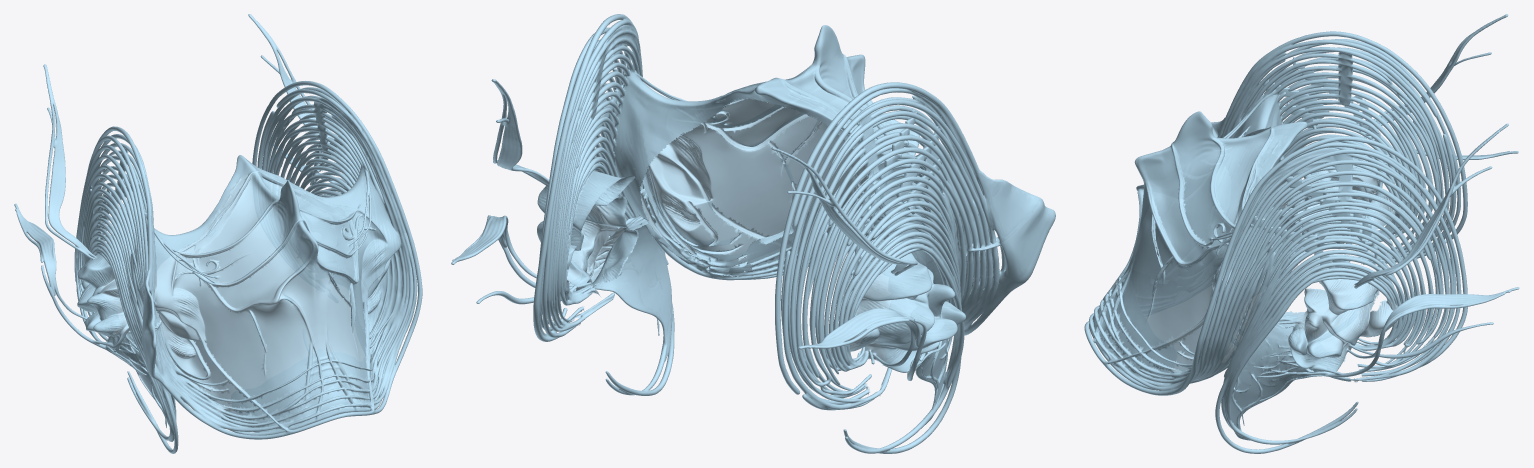
The model's file is headpiece.glb.
3 renders of one model, left to right at view 1: azimuth 30°, elevation 25°; view 2: azimuth 150°, elevation 25°; view 3: azimuth 270°, elevation 25°, orthographic. The views are drawn at different scales.
Visible parts, largest first — view 1: FrontShell, FrontPanelBase, LeftRibStructure, RightRibStructure, LeftOrganicCluster, LeftOuterRib, LeftAccentRib, LeftSensor, LeftShellPlate, RightOuterRib; view 2: LeftRibStructure, FrontShell, RightRibStructure, FrontPanelBase, LeftOrganicCluster, RightOrganicCluster, RightShellPlate, LeftAccentRib, LeftOuterRib, RightOuterRib, RightAccentRib, LeftShellPlate (+2 smaller); view 3: RightRibStructure, LeftRibStructure, FrontShell, FrontPanelBase, RightOrganicCluster, RightShellPlate, RightAccentRib, RightOuterRib, LeftOrganicCluster, RightFilament, LeftOuterRib, RightSensor (+2 smaller).
Boxes of the visible parts, x1,y1,x2,y2 form: FrontShell: [154, 155, 400, 439]; FrontPanelBase: [173, 213, 382, 406]; LeftRibStructure: [74, 126, 233, 453]; RightRibStructure: [252, 81, 422, 397]; LeftOrganicCluster: [77, 254, 129, 352]; LeftOuterRib: [43, 64, 95, 259]; LeftAccentRib: [14, 203, 114, 353]; LeftSensor: [171, 339, 257, 408]; LeftShellPlate: [113, 330, 176, 440]; RightOuterRib: [248, 14, 346, 174]; LeftRibStructure: [775, 82, 1055, 453]; FrontShell: [613, 25, 964, 335]; RightRibStructure: [533, 14, 755, 395]; FrontPanelBase: [664, 115, 919, 266]; LeftOrganicCluster: [833, 239, 965, 372]; RightOrganicCluster: [537, 171, 638, 297]; RightShellPlate: [590, 216, 671, 395]; LeftAccentRib: [798, 308, 926, 380]; LeftOuterRib: [771, 146, 917, 275]; RightOuterRib: [491, 79, 549, 186]; RightAccentRib: [451, 215, 589, 291]; LeftShellPlate: [843, 339, 948, 453]; RightRibStructure: [1154, 136, 1467, 453]; LeftRibStructure: [1172, 31, 1467, 264]; FrontShell: [1084, 94, 1307, 395]; FrontPanelBase: [1110, 180, 1231, 369]; RightOrganicCluster: [1288, 264, 1397, 373]; RightShellPlate: [1230, 311, 1358, 444]; RightAccentRib: [1312, 287, 1519, 377]; RightOuterRib: [1354, 123, 1508, 288]; LeftOrganicCluster: [1288, 157, 1399, 246]; RightFilament: [1286, 176, 1383, 267]; LeftOuterRib: [1363, 14, 1508, 142]; RightSensor: [1349, 322, 1493, 358].
Bounding box in the file's own units: 2 × 1.83 × 2.15.
